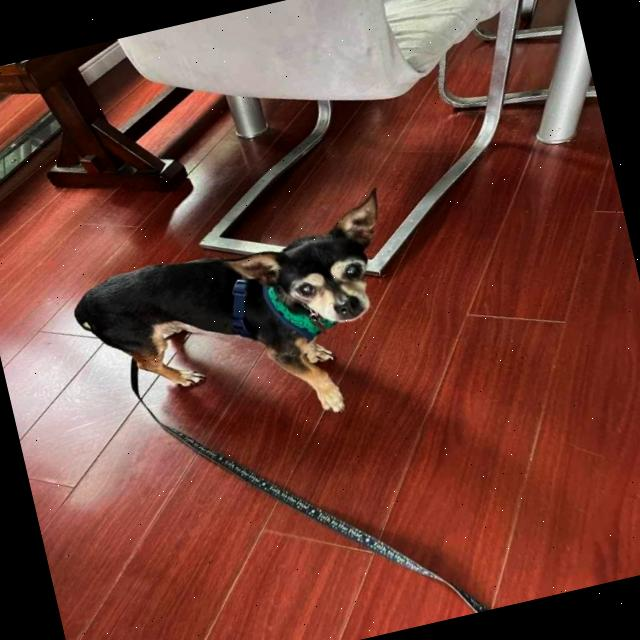chihuahua_dog: (198, 182, 416, 362)
